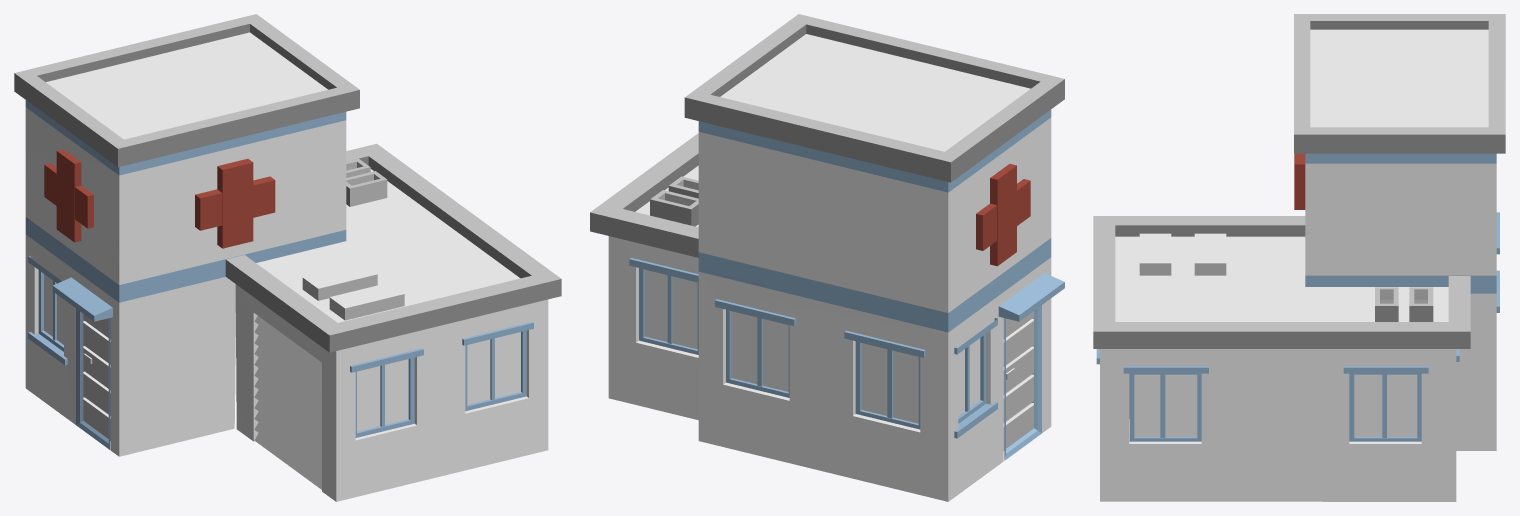
The model's file is yiyuan.fbx.
3 renders of one model, left to right at view 1: azimuth 30°, elevation 25°; view 2: azimuth 150°, elevation 25°; view 3: azimuth 270°, elevation 25°, orthographic. The views are drawn at different scales.
Parts seen in each view (by area): view 1: polySurface2, polySurface3, polySurface1; view 2: polySurface3, polySurface1, polySurface2; view 3: polySurface2, polySurface3, polySurface1.
Part boxes in pixels (x1=…): polySurface2: x1=14, y1=14, x2=561, y2=501; polySurface3: x1=15, y1=15, x2=561, y2=500; polySurface1: x1=25, y1=112, x2=346, y2=456; polySurface3: x1=590, y1=17, x2=1064, y2=499; polySurface1: x1=698, y1=109, x2=1051, y2=501; polySurface2: x1=590, y1=14, x2=1064, y2=460; polySurface2: x1=1093, y1=16, x2=1505, y2=501; polySurface3: x1=1093, y1=14, x2=1505, y2=501; polySurface1: x1=1305, y1=153, x2=1496, y2=450.
Size of the model in its own units: 4560 by 3831 by 4463.
